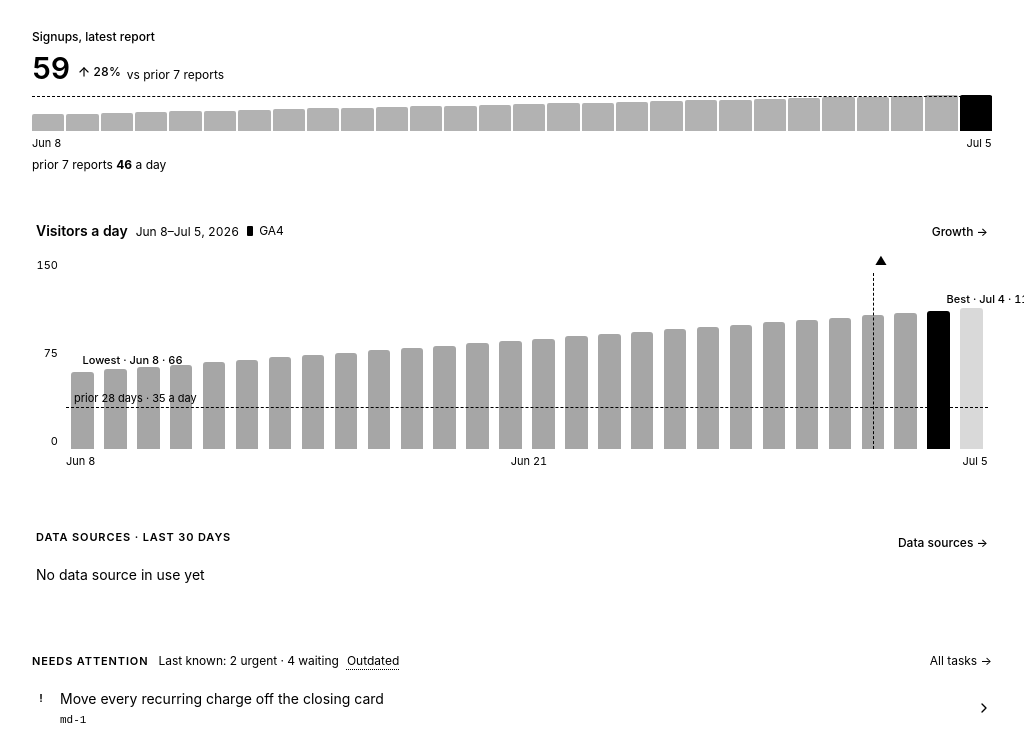
it: Asset Overview — the asset's numbers over one chart › steps through the days from the keyboard with the same readout the pointer shows
The image size is (1036, 739).
(page scrolled)
The chart names the days it covers.
Focus the element named "Visitors a day by day, Jun 8 to Jul 5" at (527, 361), box [66, 273, 988, 449]
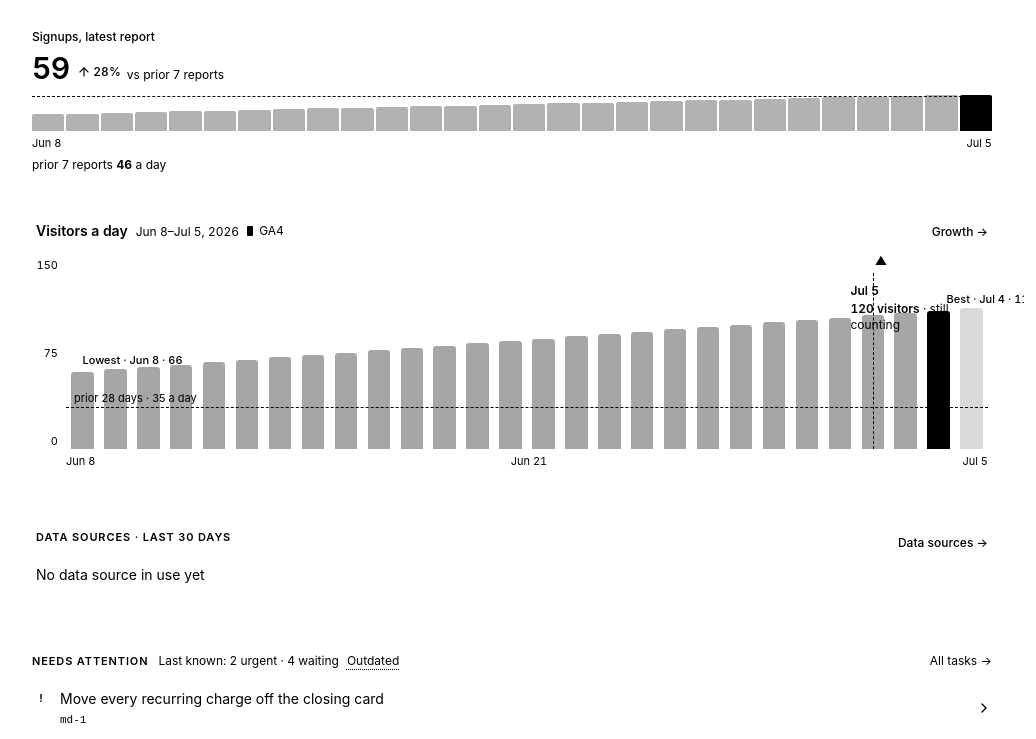
Check: the message reads "Jul 5 120 visitors · still counting", box [850, 283, 949, 332]
Press ArrowLeft in the element named "Visitors a day by day, Jun 8 to Jul 5", box [66, 273, 988, 449]
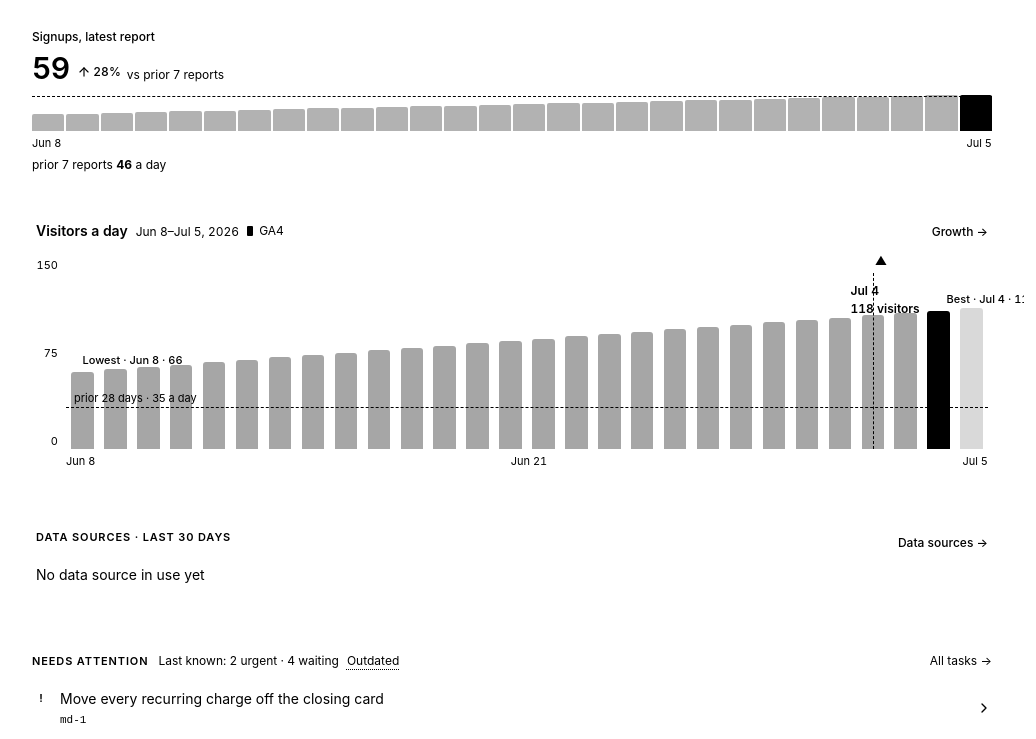
Check: the message reads "Jul 4 118 visitors", box [850, 283, 920, 316]
Press Escape in the element named "Visitors a day by day, Jun 8 to Jul 5", box [66, 273, 988, 449]
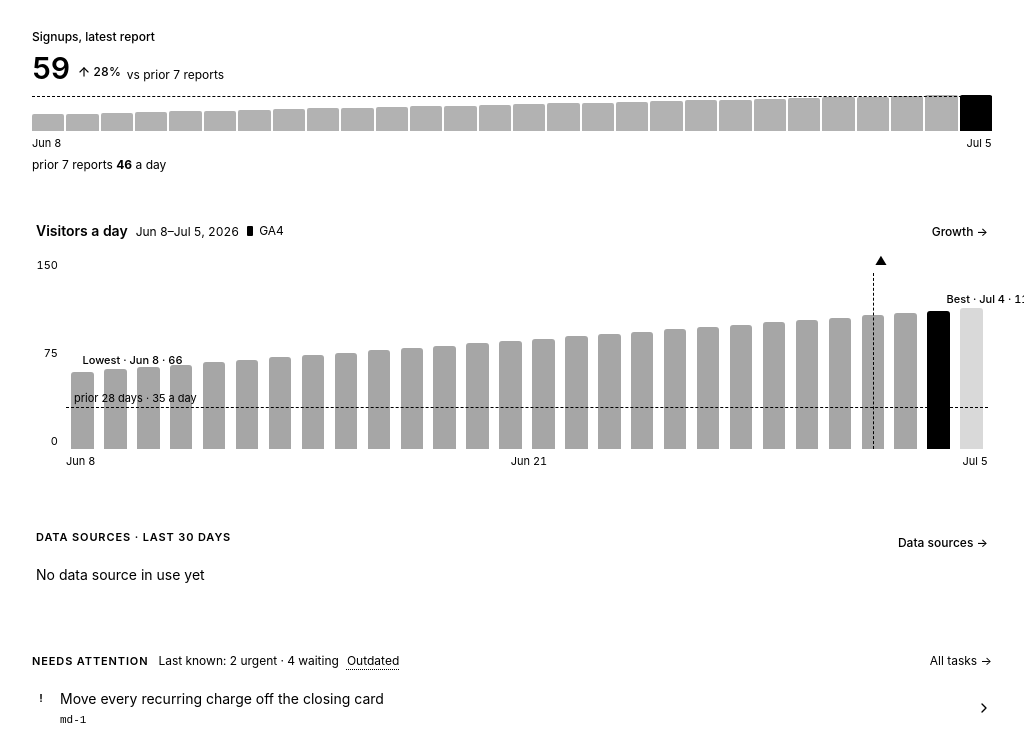
Check: the message "Jul 4 118 visitors" is gone
